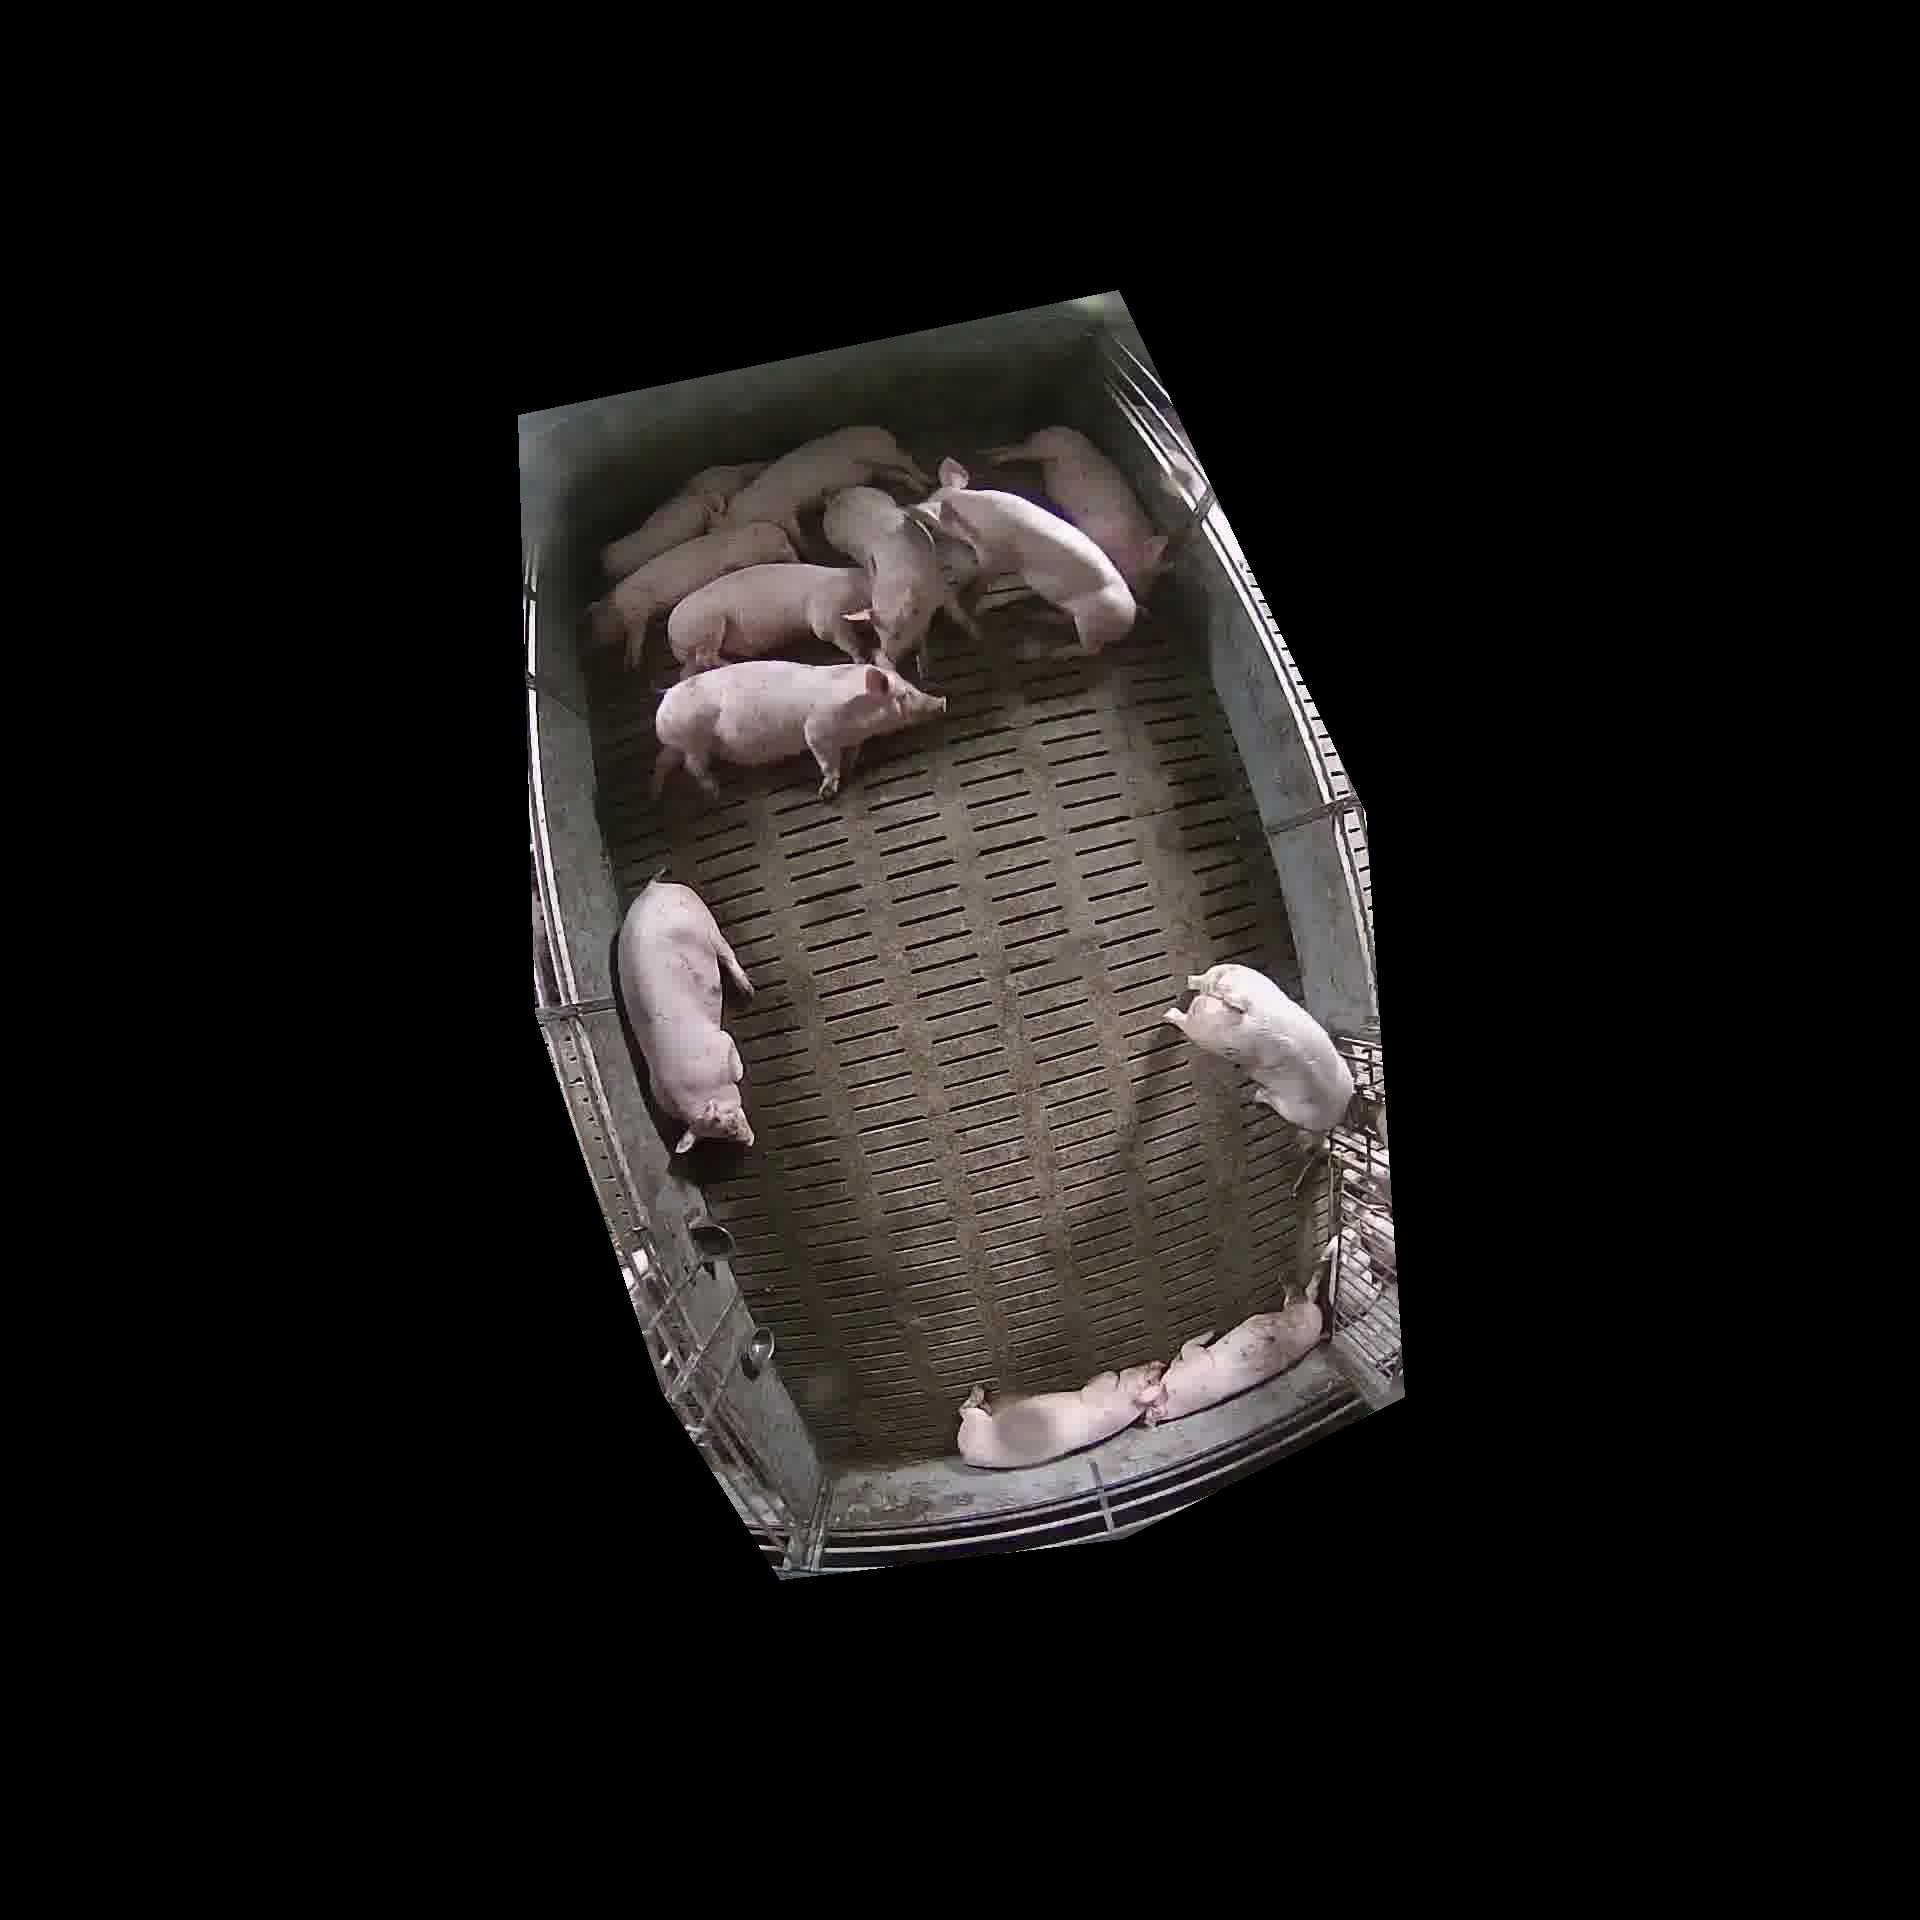pig: (918, 459, 1136, 654), (652, 659, 944, 796), (617, 879, 753, 1152), (1166, 964, 1354, 1132), (988, 425, 1167, 600), (589, 522, 796, 666), (717, 425, 927, 549), (1145, 1291, 1322, 1422), (823, 487, 946, 675), (666, 563, 869, 675), (956, 1363, 1162, 1468), (600, 464, 765, 582)
